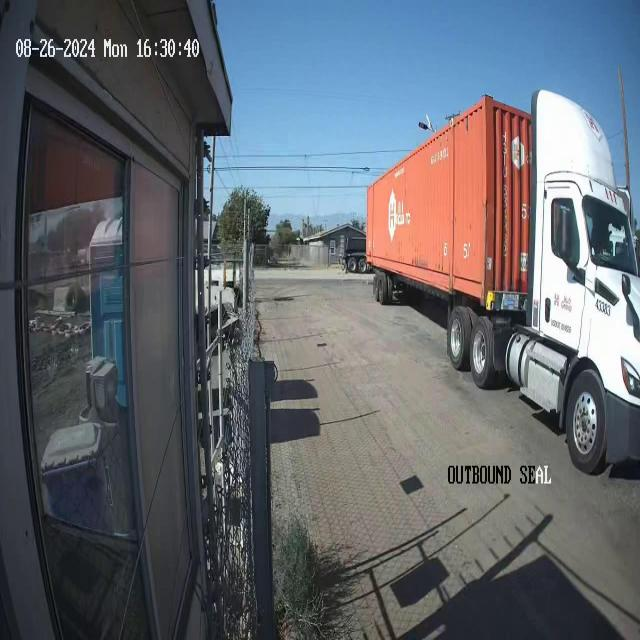TRUCK_IN: (365, 86, 639, 475)
